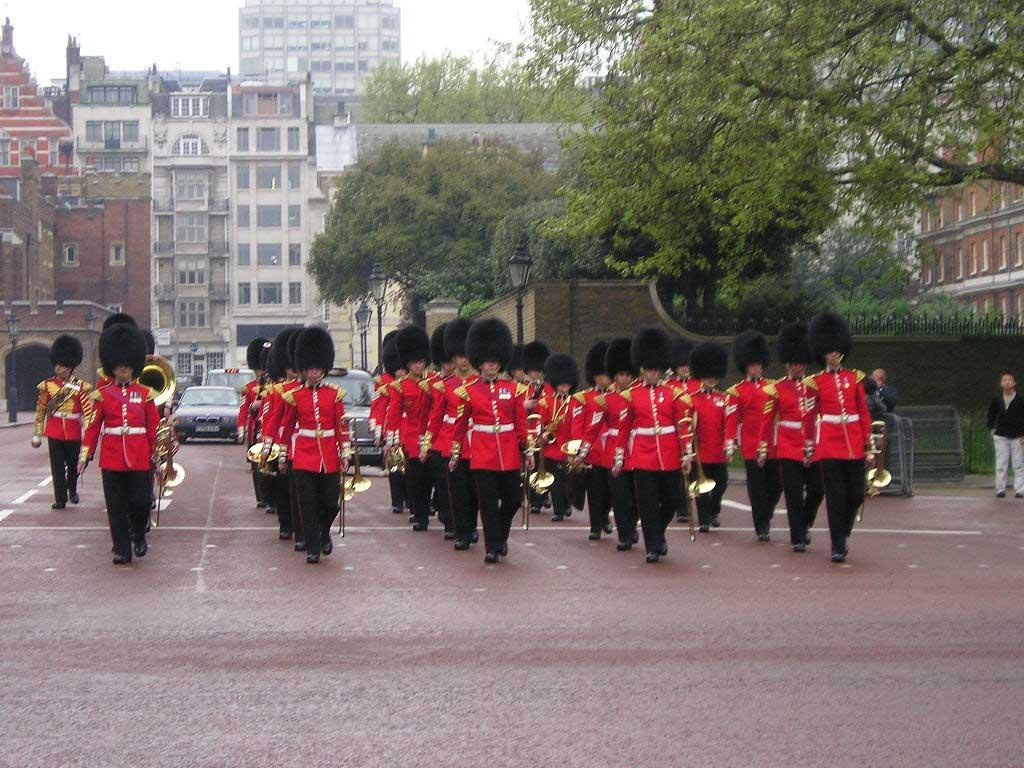human_face: (112, 354, 132, 376), (824, 340, 842, 362), (644, 362, 662, 382), (786, 356, 804, 374), (744, 354, 762, 372), (702, 366, 718, 386), (408, 353, 424, 373), (482, 352, 496, 374), (615, 367, 631, 385), (594, 366, 610, 384), (454, 350, 470, 368), (306, 362, 322, 378), (676, 358, 690, 374), (556, 378, 570, 394), (54, 356, 68, 372), (528, 362, 540, 378), (514, 362, 526, 378), (394, 362, 406, 378), (1001, 375, 1013, 387), (872, 372, 882, 386)
